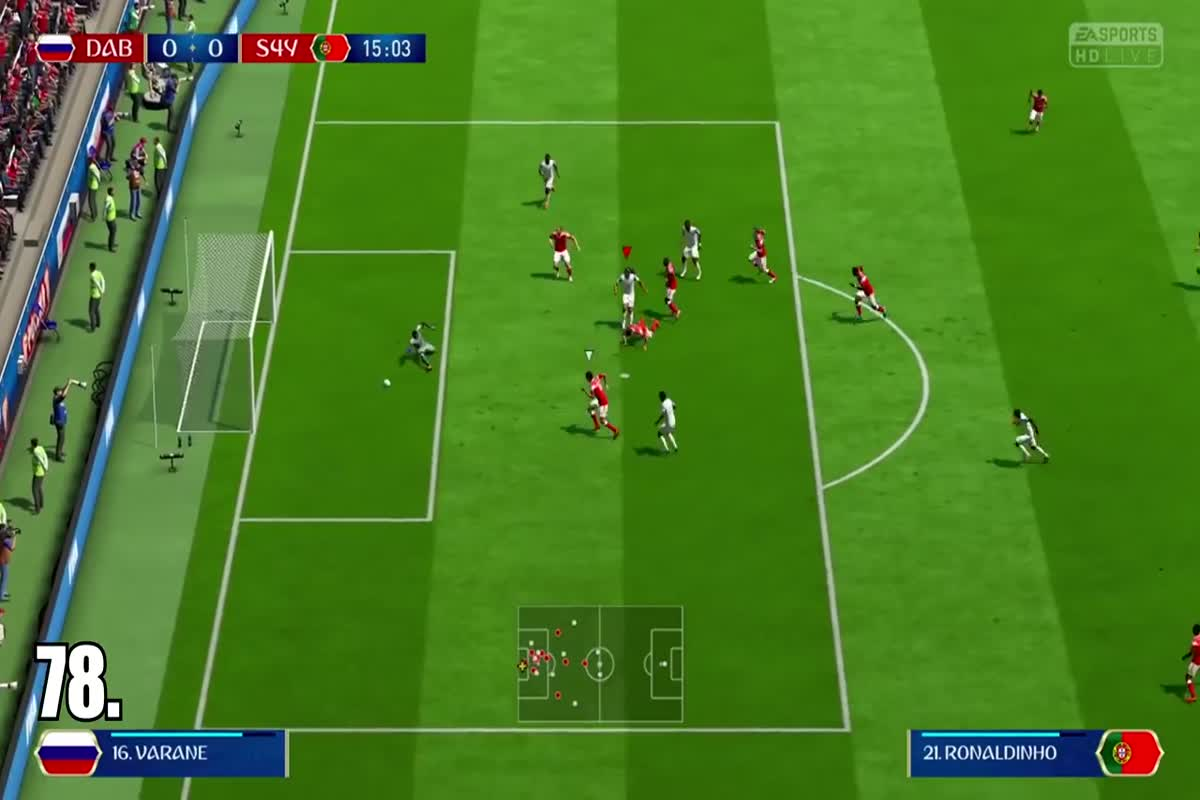ball: (375, 367, 403, 397)
